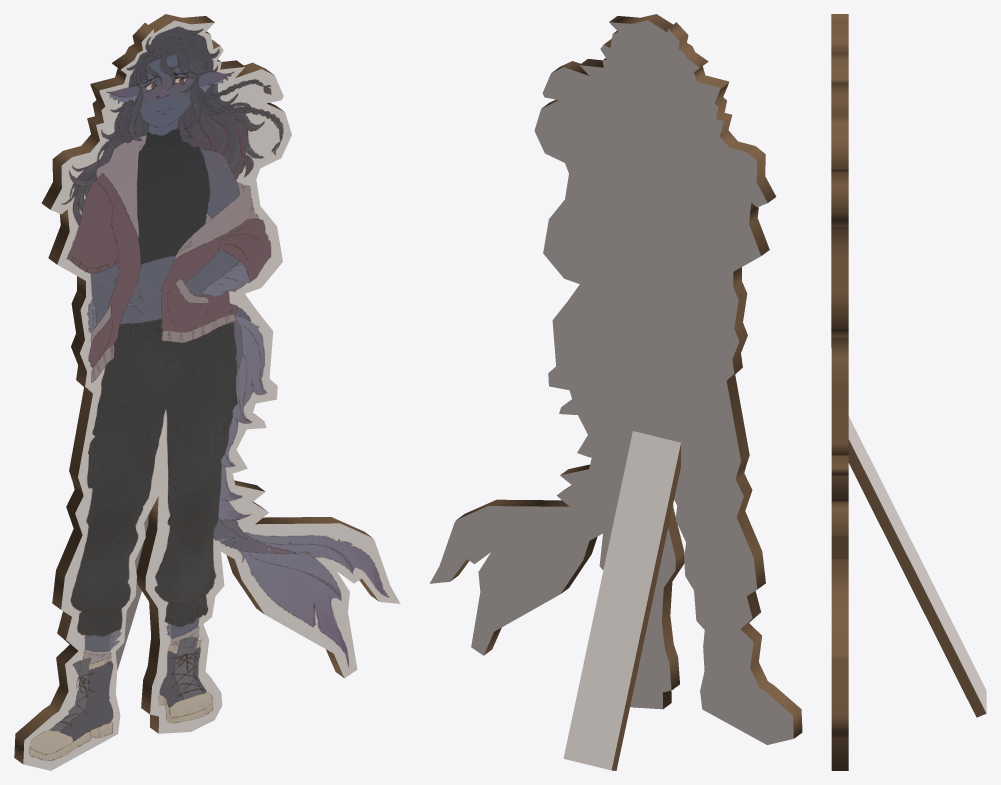
Rendered from Torsta_Sad.fbx.
The picture shows the model from 3 angles, left to right: view 1: azimuth 30°, elevation 25°; view 2: azimuth 150°, elevation 25°; view 3: azimuth 270°, elevation 25°; orthographic projection. The views are drawn at different scales.
Parts seen in each view (by area): view 1: Torsta_Sad; view 2: Torsta_Sad; view 3: Torsta_Sad.
Part boxes in pixels (bbox=[...]): Torsta_Sad: bbox=[14, 14, 400, 770]; Torsta_Sad: bbox=[430, 14, 802, 770]; Torsta_Sad: bbox=[831, 14, 986, 770].
Bounding box in the file's own units: 105 × 192 × 39.12.
Materials: 1 (1 with a texture image).
